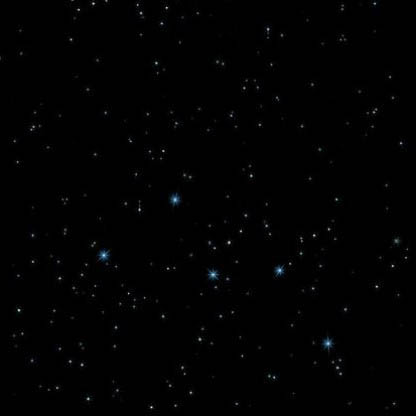Cassiopeia: (314, 324, 342, 356), (267, 260, 297, 286), (90, 245, 121, 270), (164, 187, 185, 211), (200, 269, 226, 287)
